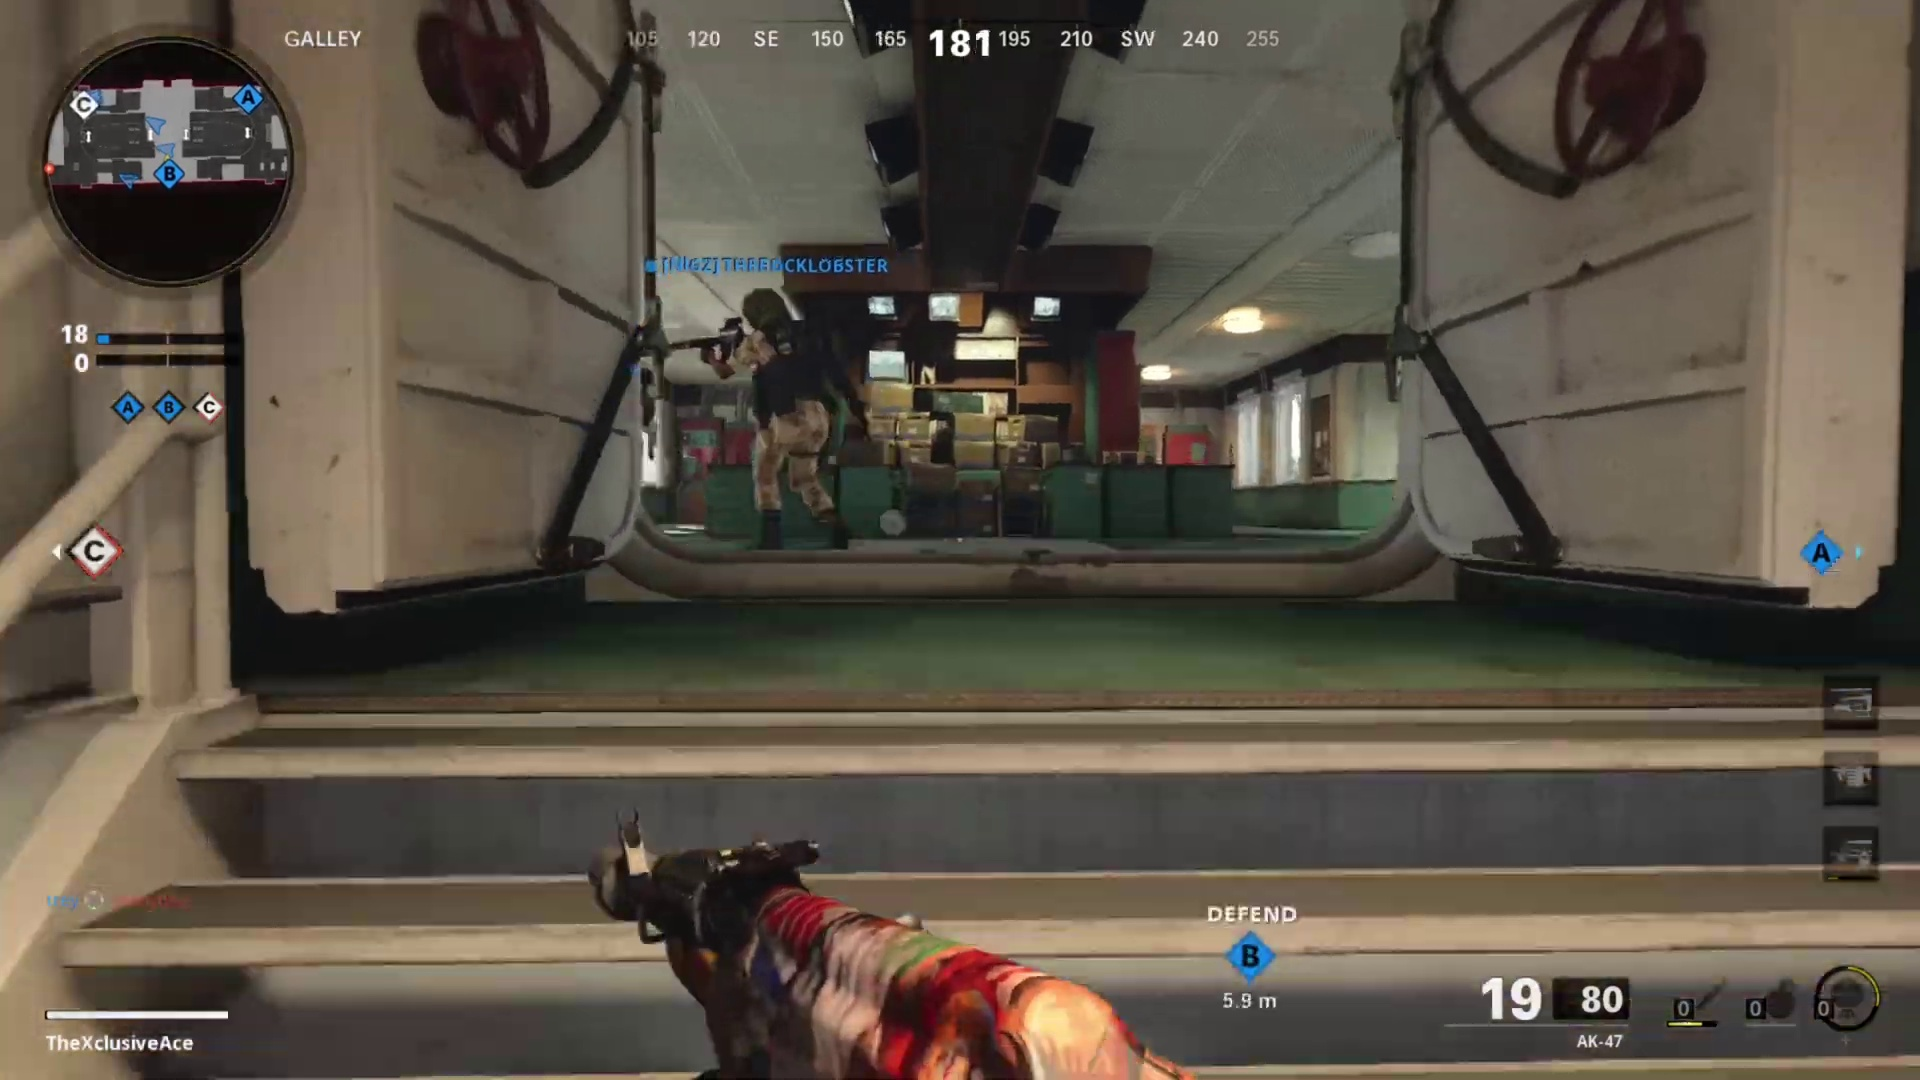head: (732, 283, 799, 357)
person: (720, 285, 855, 549)
